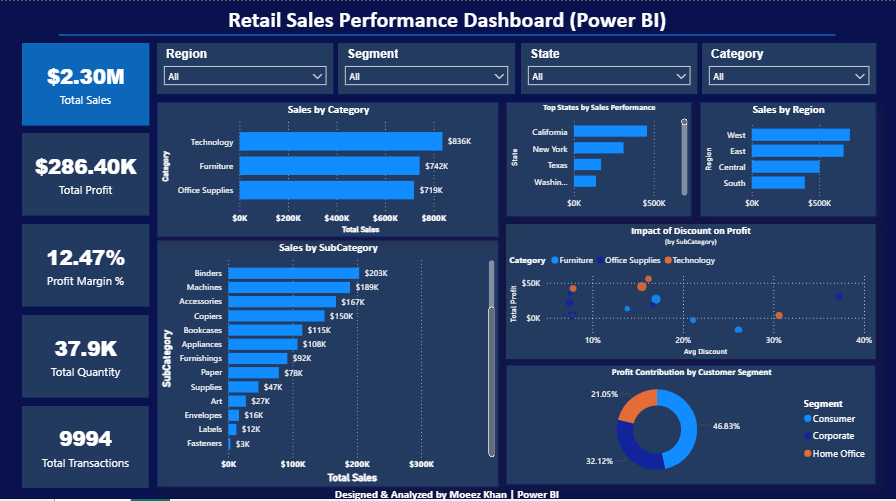

The dashboard page shown, as its layout file describes it:
{"tool":"powerbi","page":{"name":"Page 1","canvas":[1280,720],"ordinal":0},"visuals":[{"type":"card","fields":{"Values":["SampleSuperstore.Total Sales"]},"box":[30.7,59.5,181.6,117.6],"z":2000},{"type":"barChart","title":"Sales by SubCategory","fields":{"Y":["SampleSuperstore.Total Sales"],"Category":["SampleSuperstore.SubCategory"]},"box":[224.1,342,488.2,352.8],"z":3000},{"type":"textbox","box":[228,2,821,54],"z":4000},{"type":"slicer","fields":{"Values":["SampleSuperstore.Category"]},"box":[1002.2,59.5,248.8,72.9],"z":5000,"group":"g1"},{"type":"barChart","title":"Sales by Region","fields":{"Category":["SampleSuperstore.Region"],"Y":["SampleSuperstore.Total Sales"]},"box":[999.4,144.4,251.5,163.7],"z":5000},{"type":"scatterChart","title":"Impact of Discount on Profit","fields":{"Y":["SampleSuperstore.Total Profit"],"Size":["SampleSuperstore.Total Sales"],"X":["SampleSuperstore.Avg Discount"],"Series":["SampleSuperstore.Category"],"Category":["SampleSuperstore.SubCategory"]},"box":[722.3,318.9,528.5,193],"z":6000},{"type":"shape","box":[85,30,1109,37],"z":7000},{"type":"card","fields":{"Values":["SampleSuperstore.Total Profit"]},"box":[30.7,189.1,181.6,117.6],"z":8000},{"type":"slicer","fields":{"Values":["SampleSuperstore.Region"]},"box":[224,59.5,252.1,72.9],"z":9000,"group":"g1"},{"type":"barChart","title":"Top States by Sales Performance","fields":{"Y":["SampleSuperstore.Total Sales"],"Category":["SampleSuperstore.State"]},"box":[722.6,144.4,264.9,163.7],"z":9000},{"type":"slicer","fields":{"Values":["SampleSuperstore.Segment"]},"box":[483.1,59.5,253.3,72.9],"z":10000,"group":"g1"},{"type":"card","fields":{"Values":["SampleSuperstore.Profit Margin %"]},"box":[30.7,318.6,181.6,117.6],"z":10000},{"type":"slicer","fields":{"Values":["SampleSuperstore.State"]},"box":[743.4,59.5,251.8,72.9],"z":11000,"group":"g1"},{"type":"barChart","title":"Sales by Category","fields":{"Y":["SampleSuperstore.Total Sales"],"Category":["SampleSuperstore.Category"]},"box":[224,144.4,488.2,193.5],"z":11000},{"type":"card","fields":{"Values":["SampleSuperstore.Total Quantity"]},"box":[30.8,448.1,181.4,118.1],"z":12000},{"type":"donutChart","title":"Profit Contribution by Customer Segment","fields":{"Category":["SampleSuperstore.Segment"],"Y":["SampleSuperstore.Total Profit"]},"box":[722.3,520.5,528.5,171.4],"z":13000},{"type":"card","fields":{"Values":["SampleSuperstore.Total Transactions"]},"box":[30.8,578.1,181.4,116.6],"z":14000},{"type":"group","id":"g1","title":"Group 1","box":[224,59.5,1027,72.9],"z":15000},{"type":"textbox","box":[448.3,695,380,21.7],"z":16000}]}

Visuals, with their boxes in screenshot pixels (x1, y1, x2, y2), scaled from the page's 1280x720 canvas onto the 896x501 screenshot:
card - SampleSuperstore.Total Sales: BBox(21, 41, 149, 123)
"Sales by SubCategory" barChart: BBox(157, 238, 499, 483)
textbox: BBox(160, 1, 734, 39)
slicer - SampleSuperstore.Category: BBox(702, 41, 876, 92)
"Sales by Region" barChart: BBox(700, 100, 876, 214)
"Impact of Discount on Profit" scatterChart: BBox(506, 222, 876, 356)
shape: BBox(59, 21, 836, 47)
card - SampleSuperstore.Total Profit: BBox(21, 132, 149, 213)
slicer - SampleSuperstore.Region: BBox(157, 41, 333, 92)
"Top States by Sales Performance" barChart: BBox(506, 100, 691, 214)
slicer - SampleSuperstore.Segment: BBox(338, 41, 515, 92)
card - SampleSuperstore.Profit Margin %: BBox(21, 222, 149, 304)
slicer - SampleSuperstore.State: BBox(520, 41, 697, 92)
"Sales by Category" barChart: BBox(157, 100, 499, 235)
card - SampleSuperstore.Total Quantity: BBox(22, 312, 149, 394)
"Profit Contribution by Customer Segment" donutChart: BBox(506, 362, 876, 481)
card - SampleSuperstore.Total Transactions: BBox(22, 402, 149, 483)
"Group 1" group: BBox(157, 41, 876, 92)
textbox: BBox(314, 484, 580, 499)
